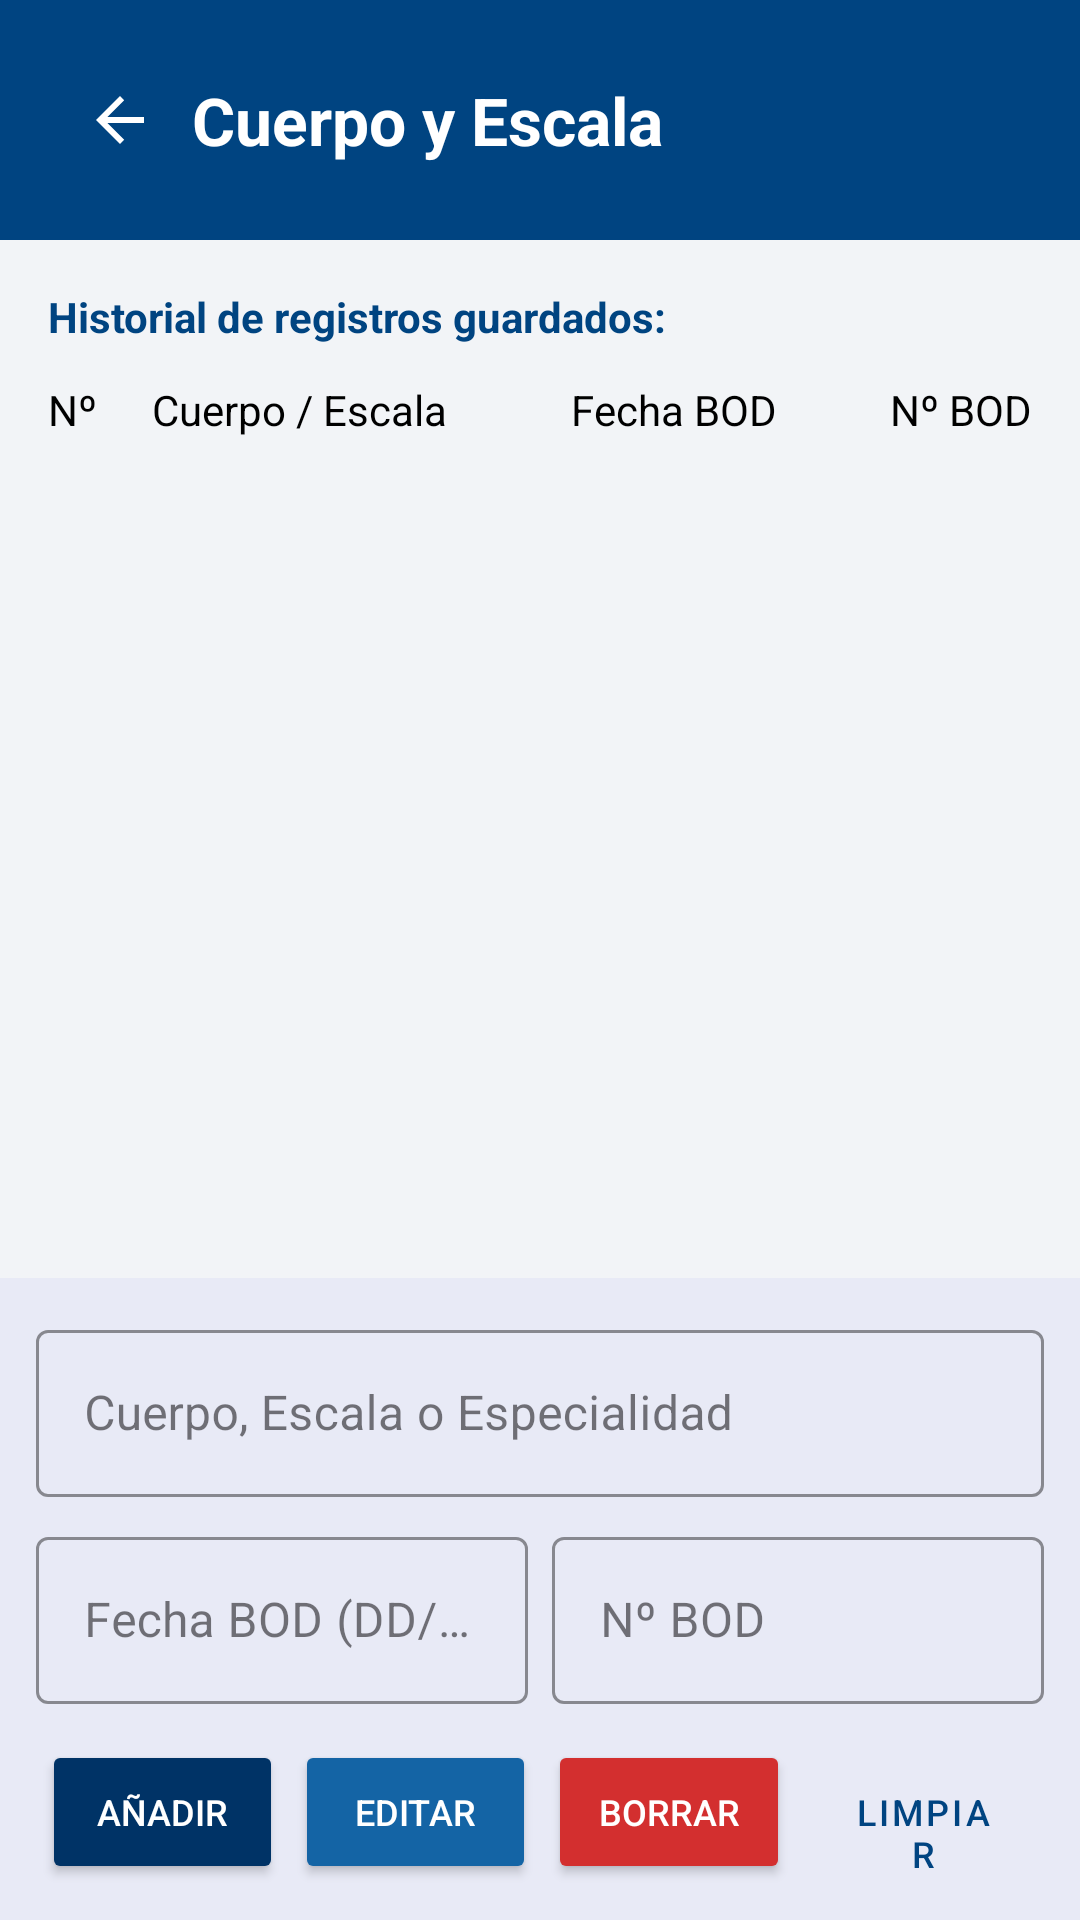

Icon click points for this 1080w x 1920h phone screenshot, format (x=x, y=y):
Volver: (x=120, y=120)
